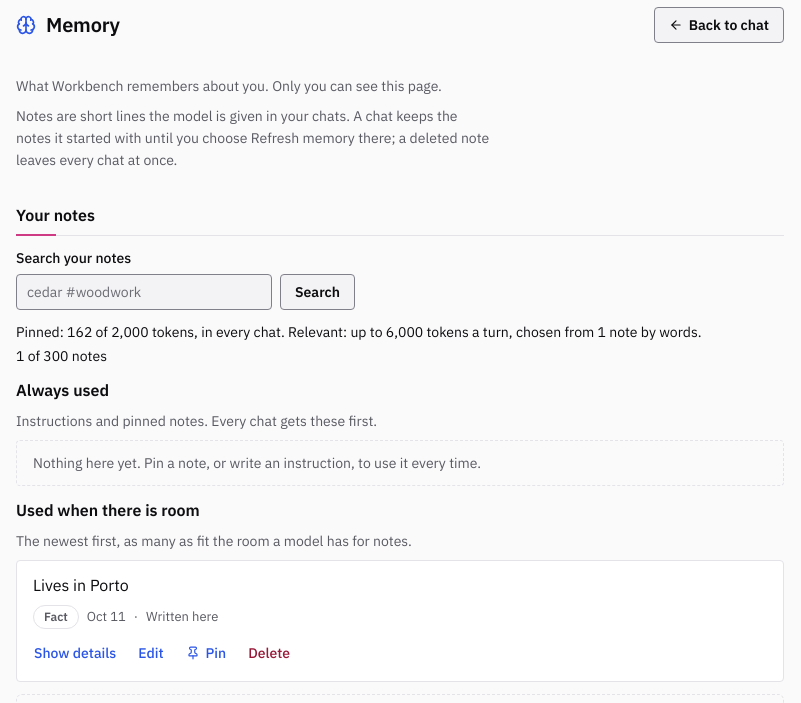
a note's tags and details › says a note has no details and no earlier versions
Click the button with test id "memory-note-details" at (75, 653), box [25, 637, 125, 669]
(page scrolled)
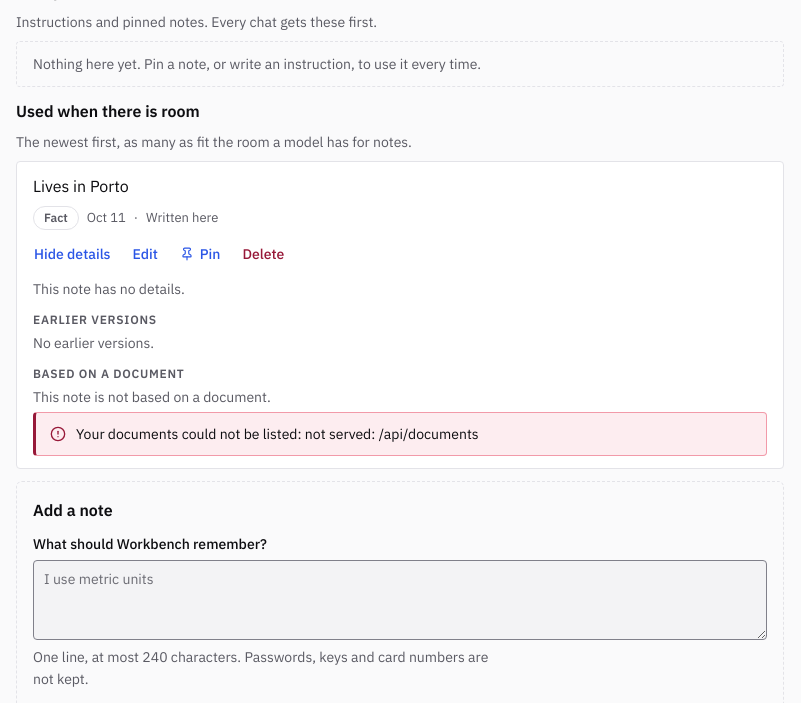
Result: the text "This note has no details." is shown at [33, 280, 185, 298]
